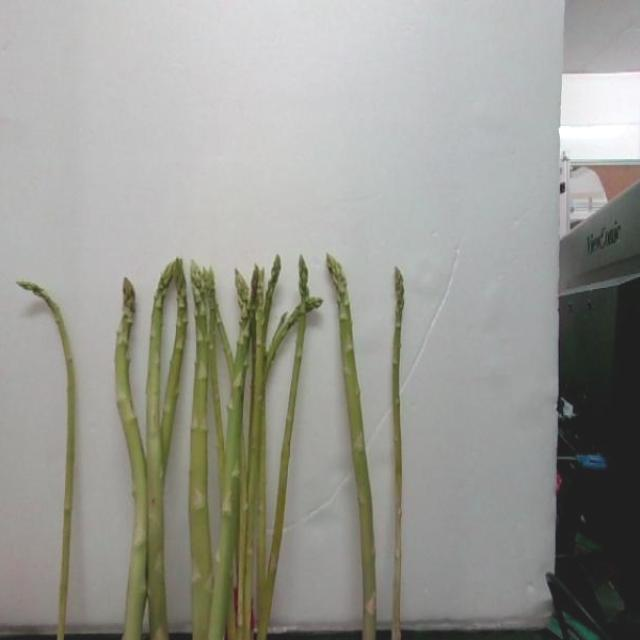aspargus: (15, 281, 76, 640), (324, 255, 379, 640), (114, 281, 152, 640), (390, 266, 409, 640)
